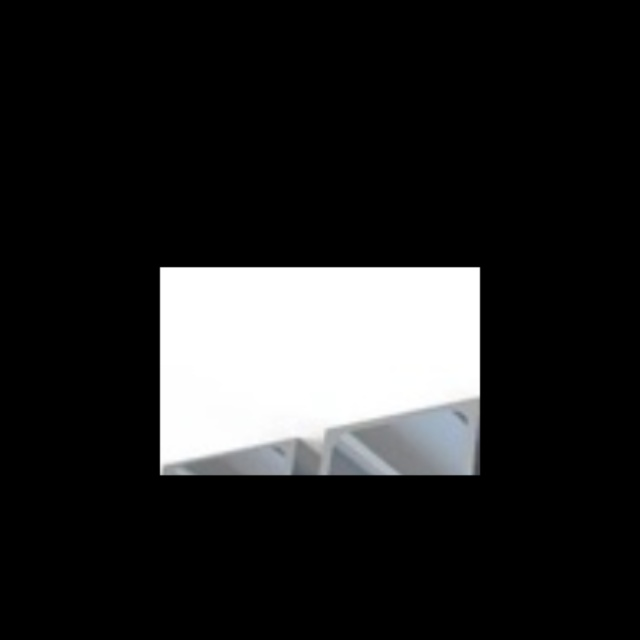Shveller: (321, 405, 475, 475), (160, 442, 294, 475)
